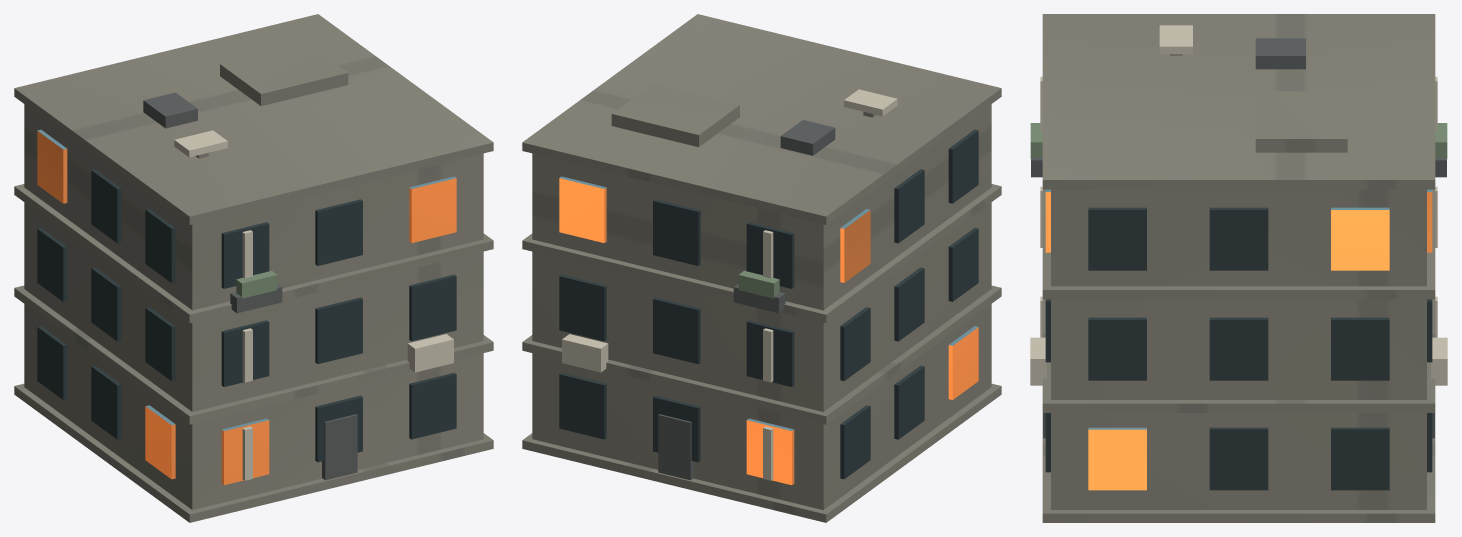
Rendered from khrushchyovka-textured-v1.glb.
3 views of the same model, side by side, from view 1: azimuth 30°, elevation 25°; view 2: azimuth 150°, elevation 25°; view 3: azimuth 270°, elevation 25° (orthographic). The views are drawn at different scales.
Parts seen in each view (by area): view 1: Module_0; view 2: Module_0; view 3: Module_0.
Boxes of the visible parts, left/top/right/bottom form: Module_0: left=14, top=14, right=493, bottom=522; Module_0: left=522, top=14, right=1001, bottom=522; Module_0: left=1030, top=14, right=1447, bottom=522.
Bounding box in the file's own units: 0.94 × 0.9495 × 0.998.
8 materials, 1 textured.
